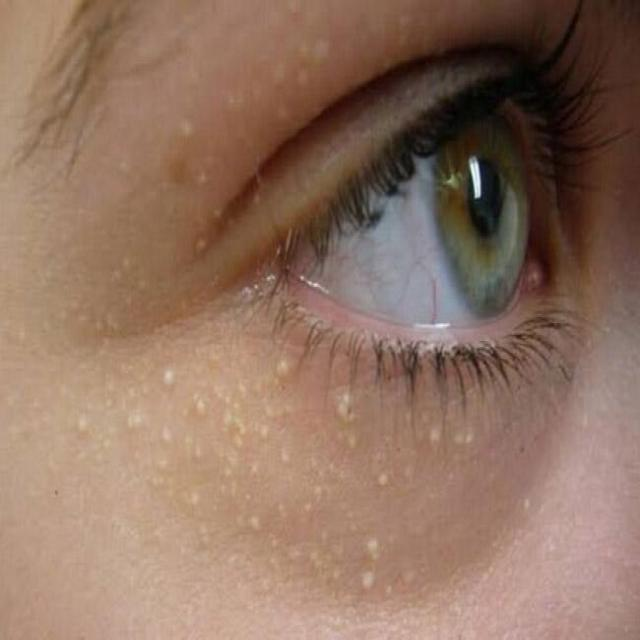milium: (168, 23, 334, 191), (157, 455, 330, 581), (145, 338, 293, 445), (315, 383, 378, 469), (412, 401, 486, 469), (346, 521, 404, 604)
